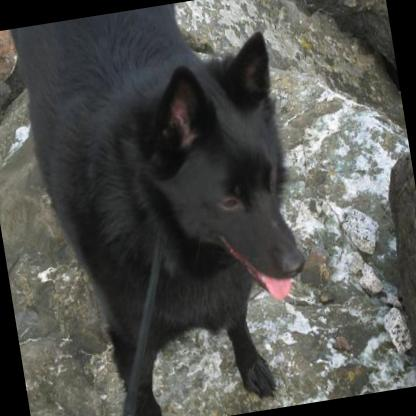schipperke: (0, 0, 323, 416)
